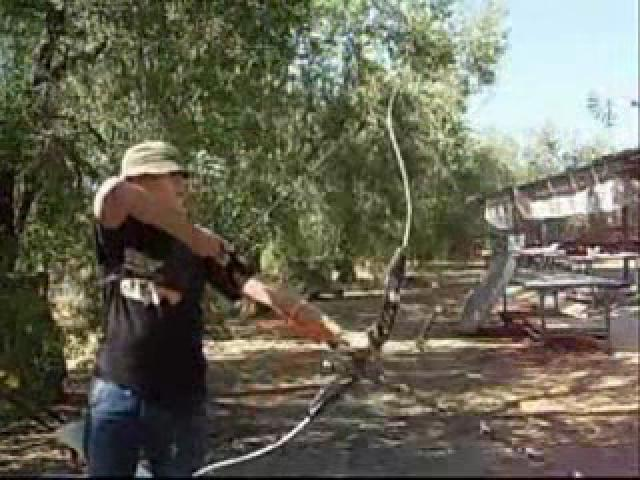I: (54, 124, 364, 480)
